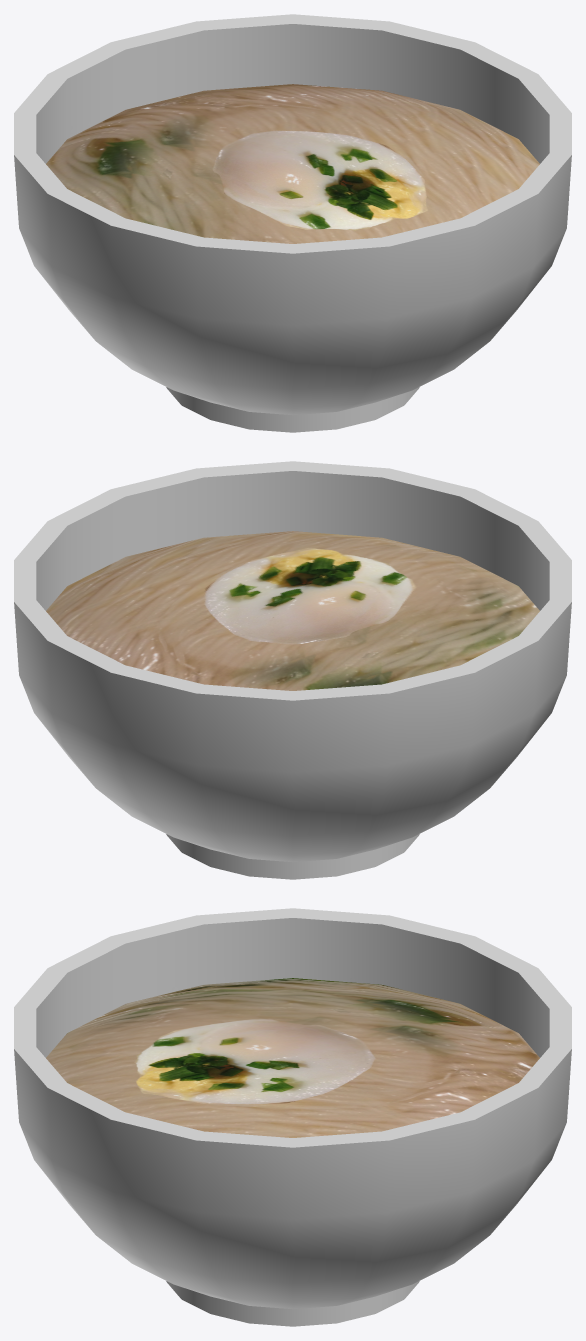
Rendered from nudle02.FBX.
3 views of the same model, one above another, from view 1: azimuth 30°, elevation 25°; view 2: azimuth 150°, elevation 25°; view 3: azimuth 270°, elevation 25° (orthographic).
Visible parts, largest first — view 1: 장수면001; view 2: 장수면001; view 3: 장수면001.
Boxes of the visible parts, x1,y1,x2,y2 form: 장수면001: (14, 14, 571, 432); 장수면001: (14, 461, 571, 879); 장수면001: (14, 908, 571, 1326).
Size of the model in its own units: 26.39 by 12.56 by 25.98.
